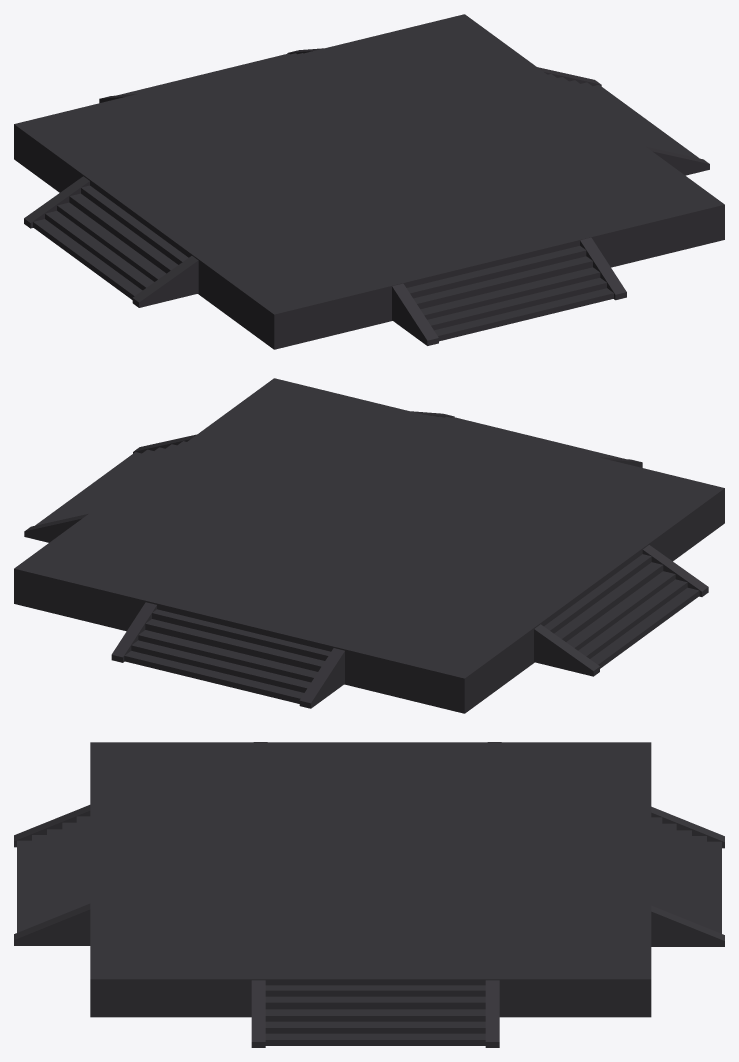
Rendered from foundation6.fbx.
3 views of the same model, one above another, from view 1: azimuth 30°, elevation 25°; view 2: azimuth 150°, elevation 25°; view 3: azimuth 270°, elevation 25° (orthographic). The views are drawn at different scales.
Visible parts, largest first — view 1: foundation6; view 2: foundation6; view 3: foundation6.
Boxes of the visible parts, bbox=[...] form: foundation6: bbox=[14, 14, 724, 349]; foundation6: bbox=[14, 378, 724, 713]; foundation6: bbox=[14, 742, 724, 1047].
Size of the model in its own units: 1706 by 101 by 1710.
